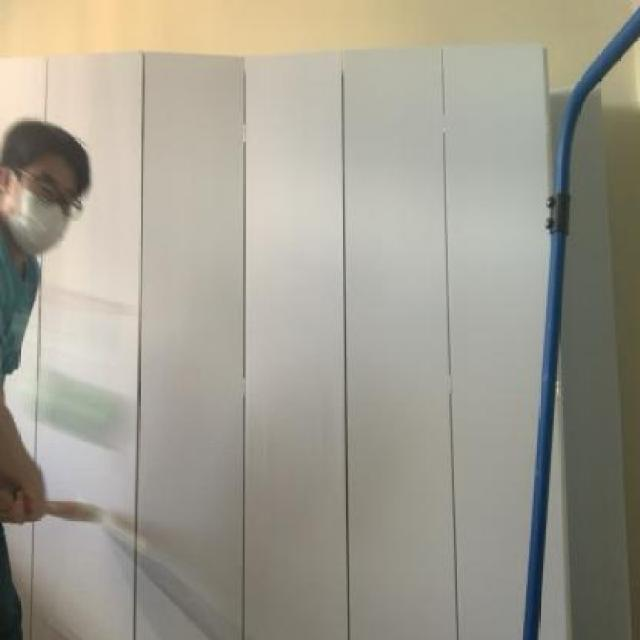baseball: (20, 359, 146, 458)
